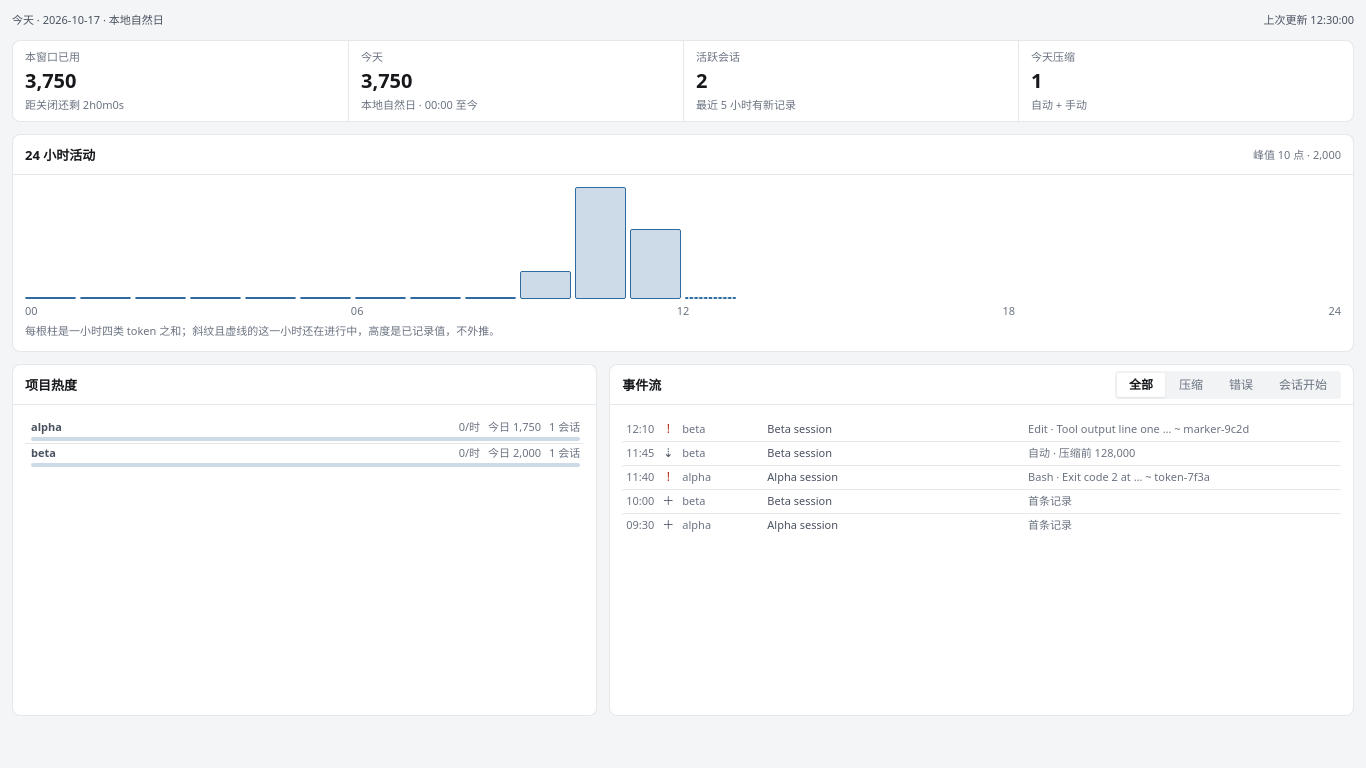
Test: MonitorConsolePage 项目与事件筛选 › 清除按钮同时结束项目筛选，保留事件类型筛选
Step 1. Click the button "alpha 0/时 今日 1,750 1 会话" → (46, 426), box [25,417,584,443]
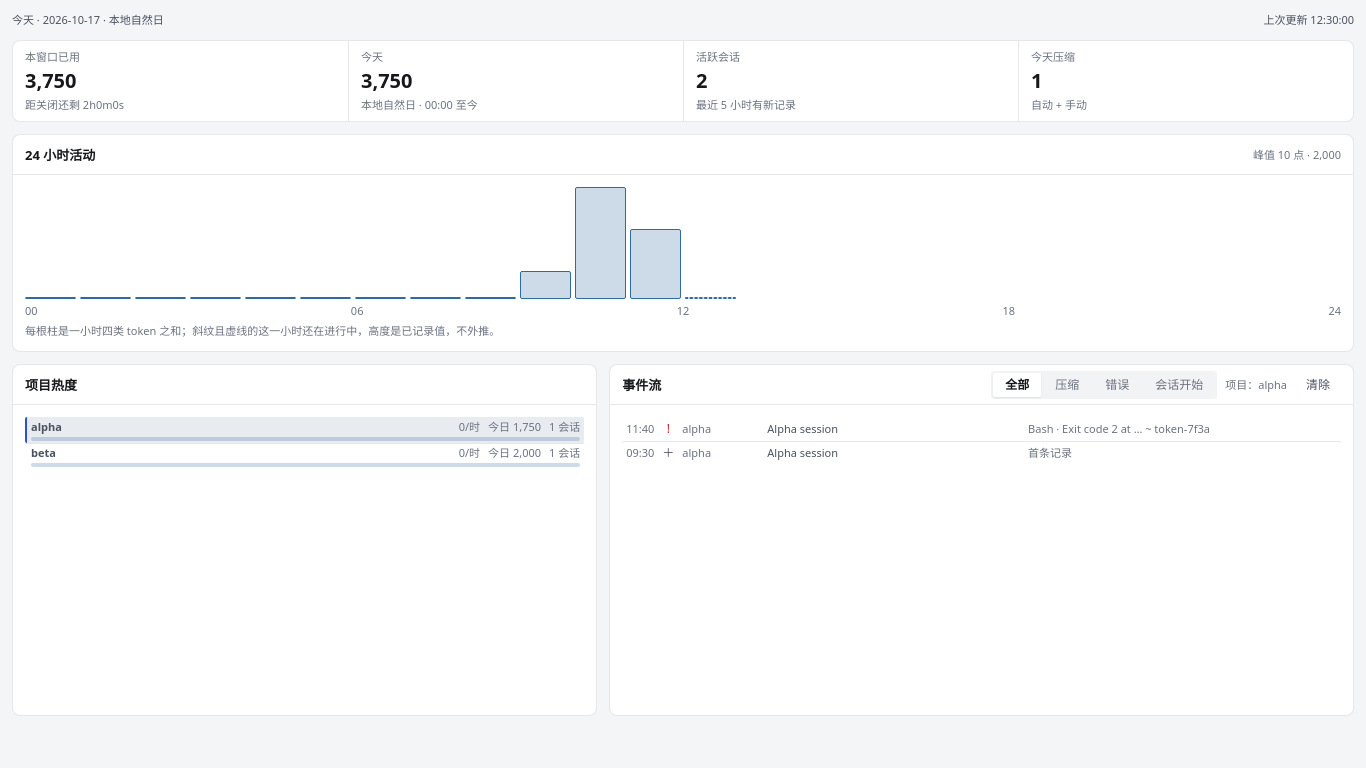
Step 2. Click the button "清除" → (1318, 384), box [1295,370,1341,398]
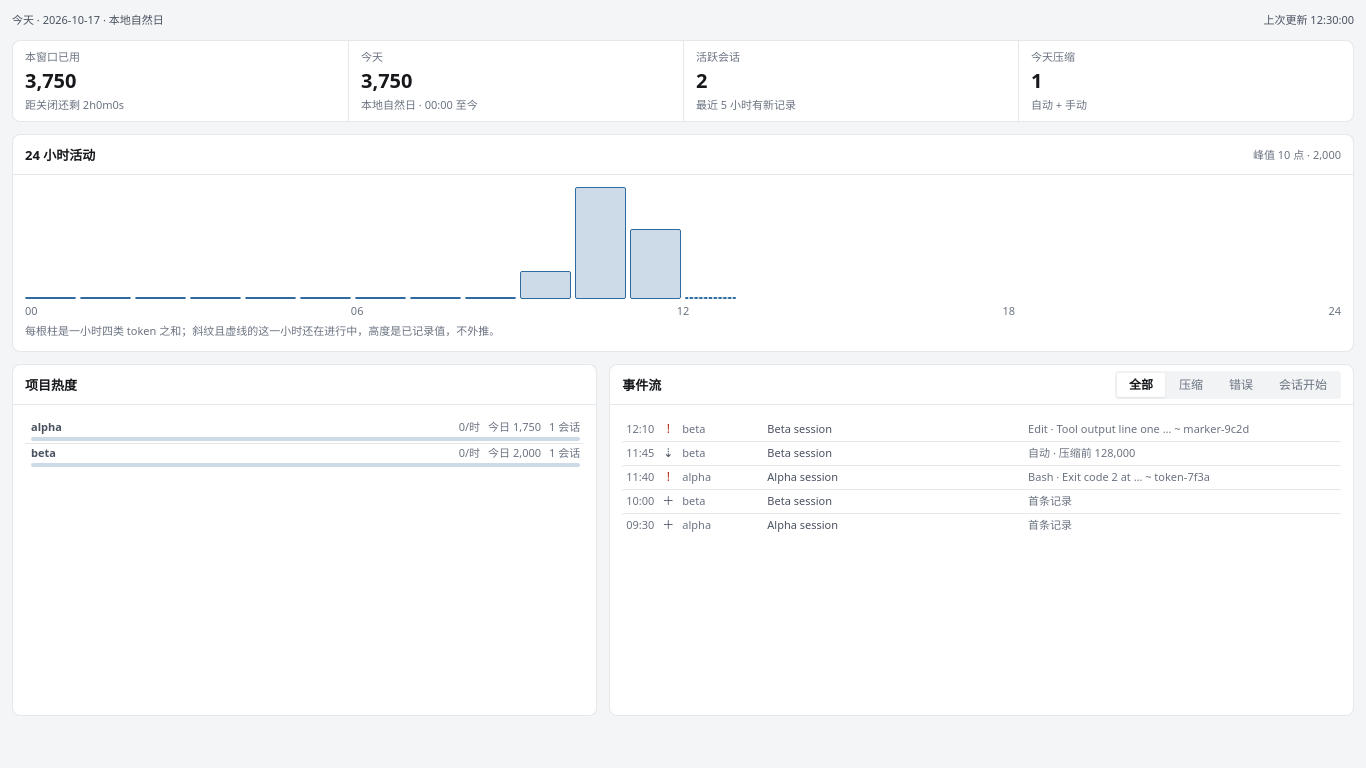
Check: the text "项目：alpha" is gone
